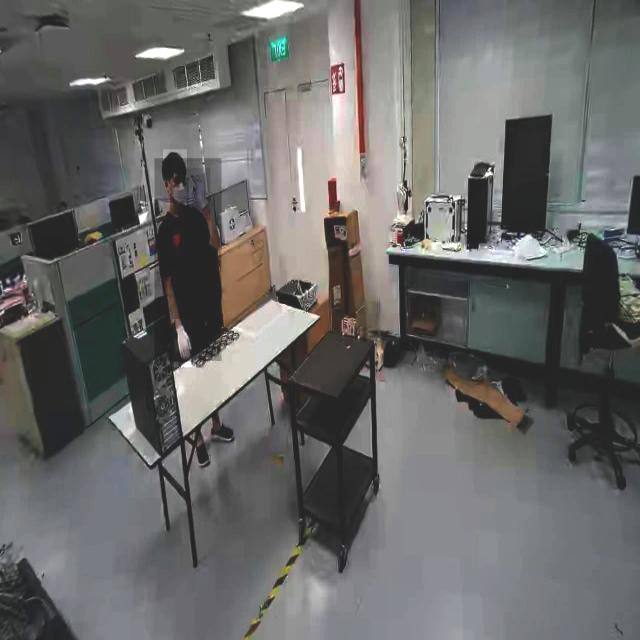face_mask: (170, 178, 189, 215)
hand_glove: (187, 168, 210, 220), (172, 319, 192, 368)
head_nohelmet: (163, 149, 187, 171)
person: (154, 158, 222, 362)
shoes: (192, 428, 211, 472), (209, 417, 235, 444)
